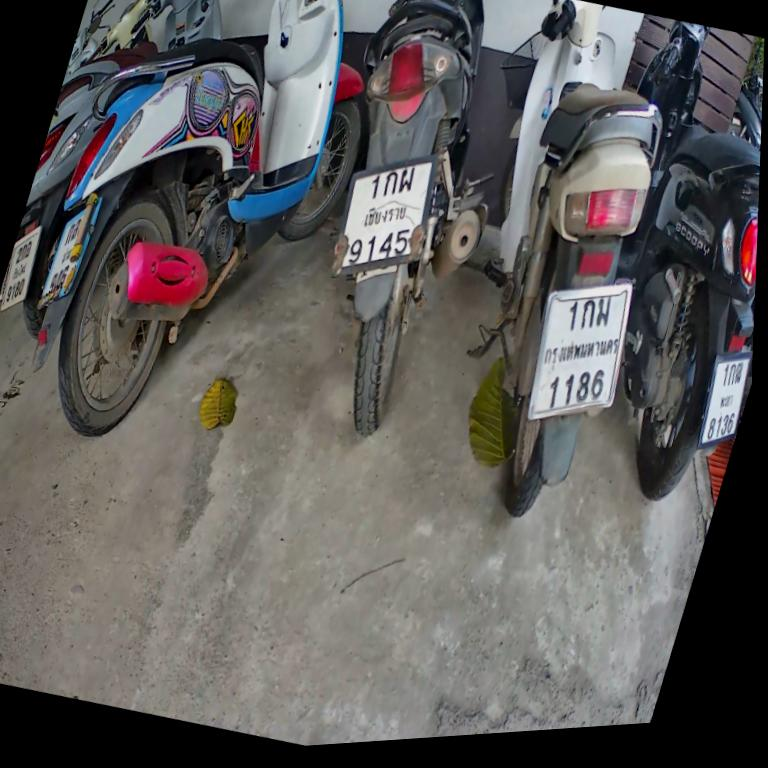license plate: (503, 254, 656, 449), (316, 123, 456, 304), (681, 330, 754, 463), (34, 196, 105, 311), (0, 213, 53, 330)
